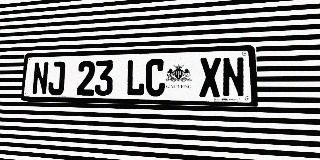2: (77, 60, 95, 96)
3: (94, 60, 113, 96)
C: (145, 59, 165, 97)
J: (48, 61, 65, 95)
L: (125, 59, 145, 96)
N: (222, 57, 245, 98), (32, 62, 49, 95)
X: (199, 57, 221, 97)
